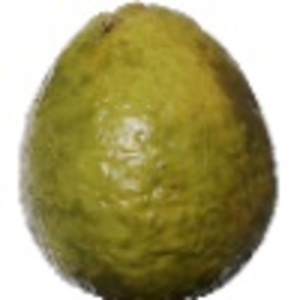goiaba: (18, 4, 283, 298)
